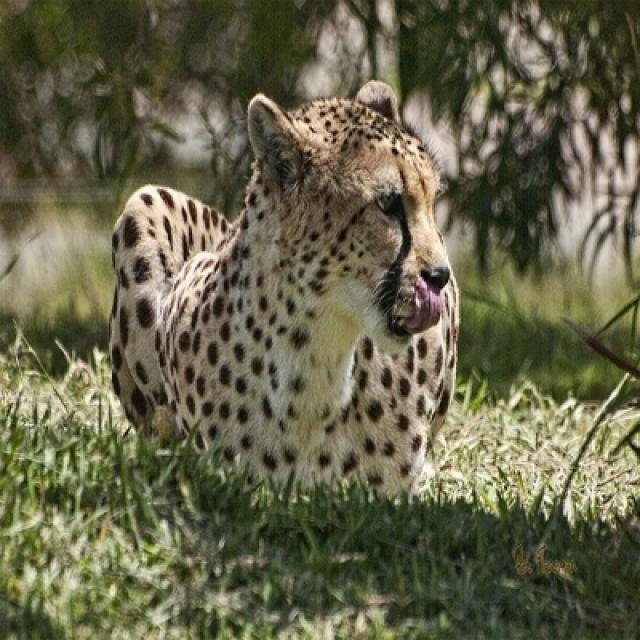Cheetah: (109, 80, 461, 507)
